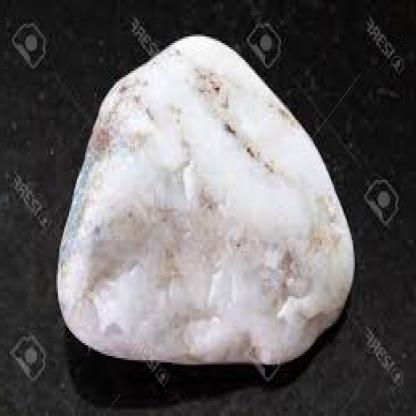Metamorphic_Marble: (47, 37, 363, 362)
